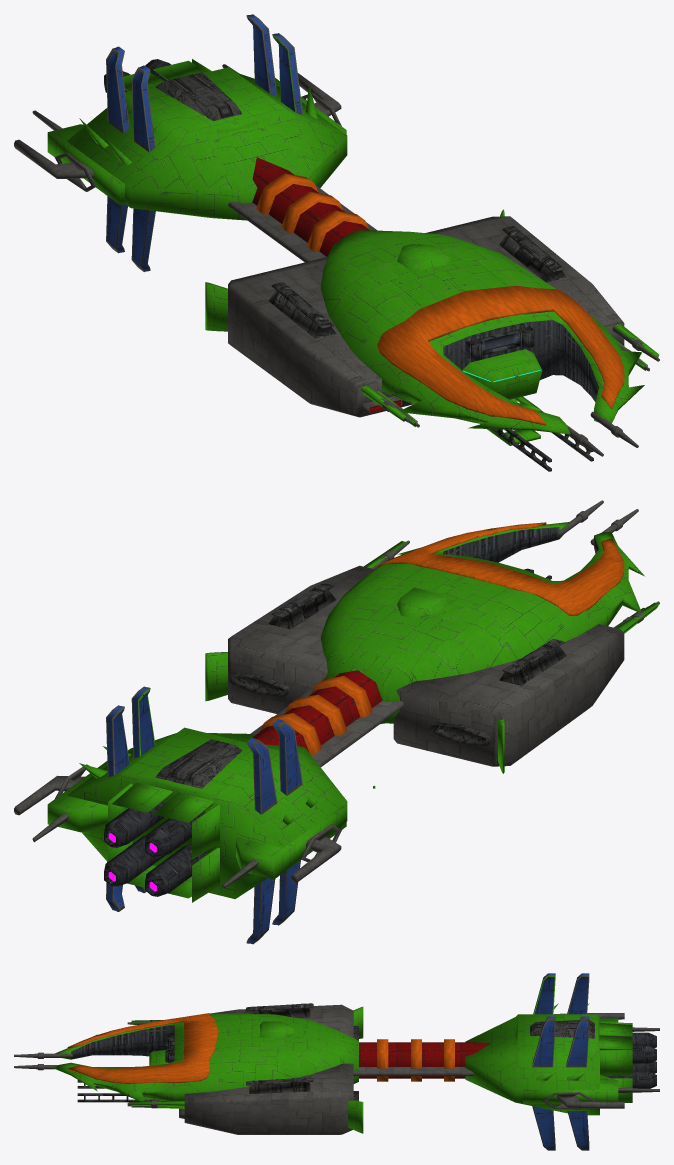
File: dilgar-tikrit.glb
3 renders of one model, top to bottom at view 1: azimuth 30°, elevation 25°; view 2: azimuth 150°, elevation 25°; view 3: azimuth 270°, elevation 25°, orthographic. The views are drawn at different scales.
Visible parts, largest first — view 1: Dilgar_Tratharti; view 2: Dilgar_Tratharti; view 3: Dilgar_Tratharti.
Boxes of the visible parts, box(x1,y1,x2,y2) form: Dilgar_Tratharti: box(14, 14, 659, 471); Dilgar_Tratharti: box(14, 500, 659, 944); Dilgar_Tratharti: box(14, 973, 659, 1150).
Size of the model in its own units: 93.52 by 60.59 by 267.
Materials: 10 (8 with a texture image).
